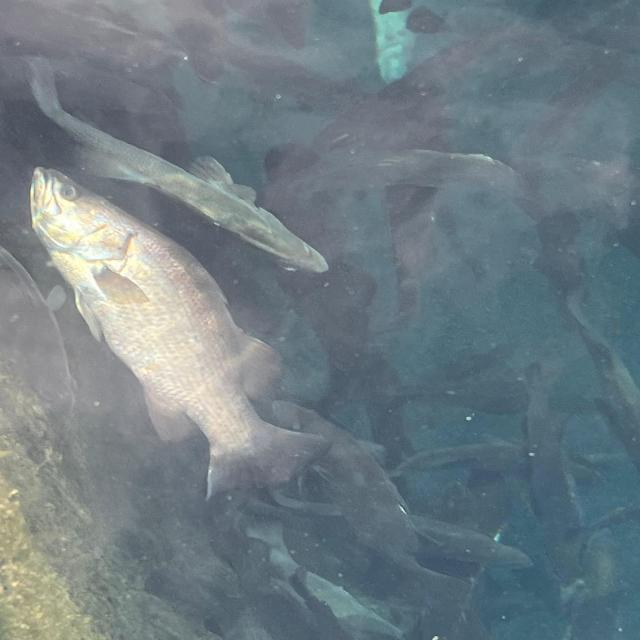ikan: (30, 125, 366, 516)
